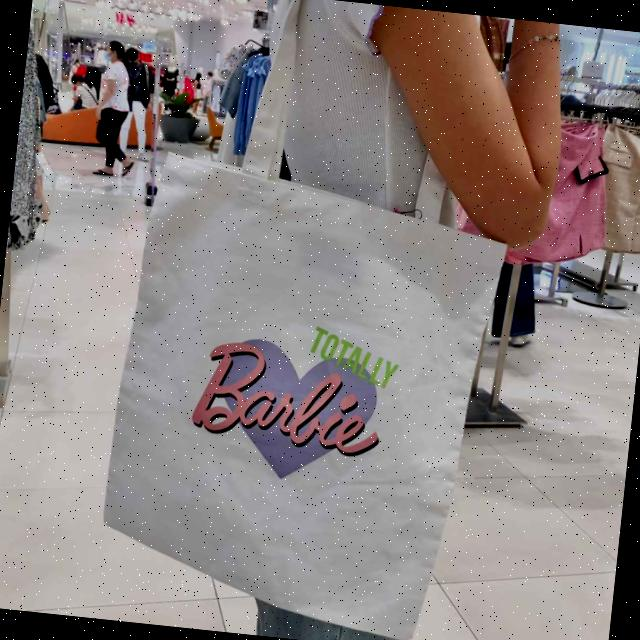Handbag: (88, 143, 522, 640)
